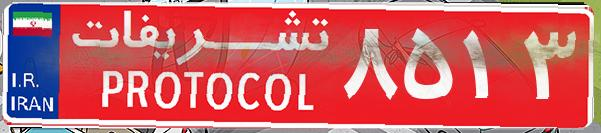1: (460, 20, 520, 115)
3: (520, 20, 580, 115)
5: (400, 20, 460, 115)
8: (340, 20, 400, 115)
تشریفات: (60, 8, 340, 125)
